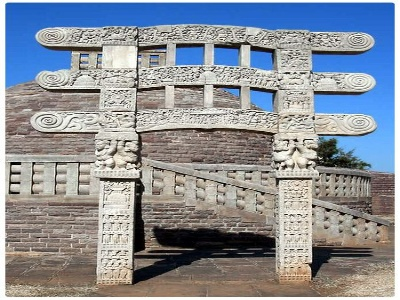torana: (38, 22, 373, 270)
